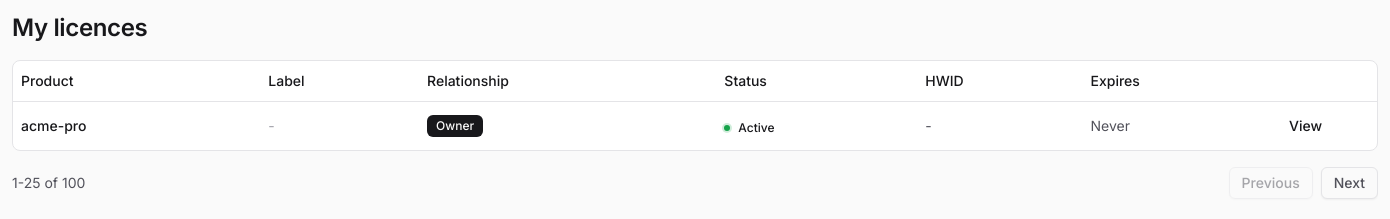
Test case: PortalLicencesPage › advances the offset when Next is clicked
The image size is (1390, 219).
Expected: the link "acme-pro" is shown, [21,116,86,134]
Click the button "Next" at point(1349, 182), box [1321,166,1378,198]
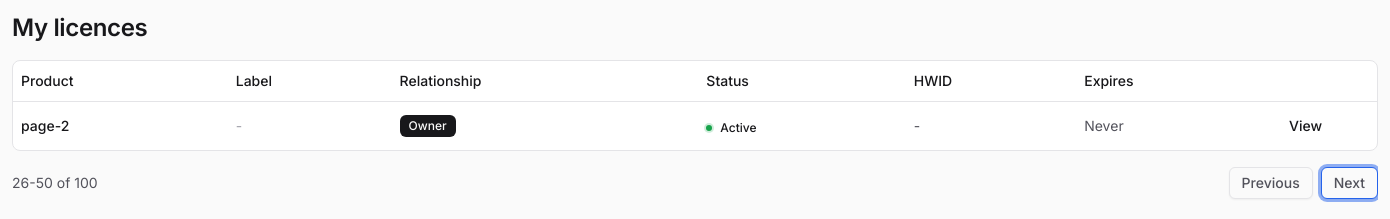
Expected: the link "page-2" is shown, [21,116,69,134]
